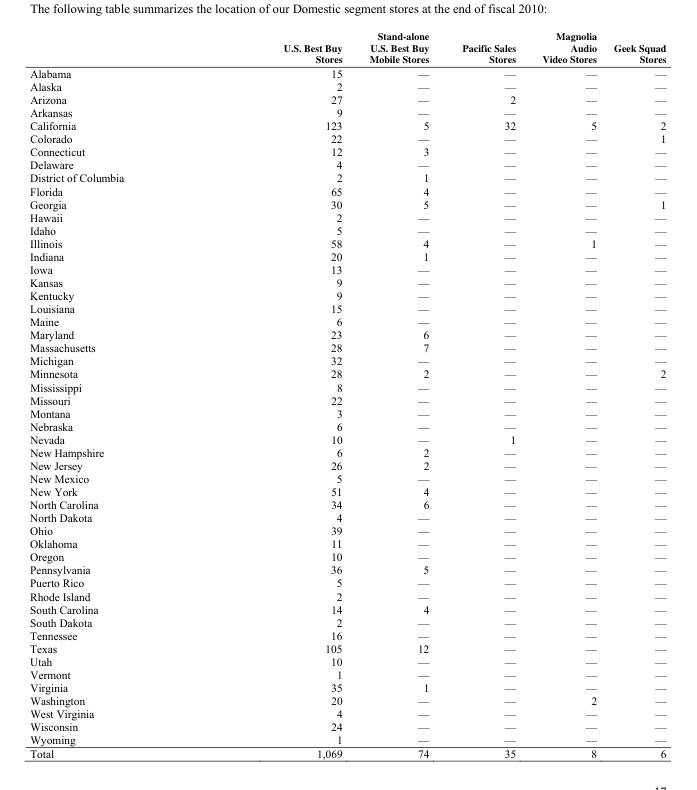table: (28, 28, 665, 759)
table column: (28, 28, 202, 759), (202, 28, 355, 759), (355, 28, 445, 759), (445, 28, 528, 759), (528, 28, 604, 759), (604, 28, 665, 759)
table column header: (28, 28, 665, 66)
table row: (28, 28, 665, 66), (28, 157, 665, 171), (28, 340, 665, 354), (28, 536, 665, 550), (28, 732, 665, 746), (28, 66, 665, 79), (28, 79, 665, 92), (28, 92, 665, 105), (28, 105, 665, 118), (28, 118, 665, 131), (28, 131, 665, 144), (28, 144, 665, 157), (28, 171, 665, 184), (28, 184, 665, 197), (28, 197, 665, 210), (28, 210, 665, 223), (28, 223, 665, 236), (28, 236, 665, 249), (28, 249, 665, 262), (28, 262, 665, 275), (28, 275, 665, 288), (28, 288, 665, 301), (28, 301, 665, 314), (28, 314, 665, 327), (28, 327, 665, 340), (28, 354, 665, 367), (28, 367, 665, 380), (28, 380, 665, 393), (28, 393, 665, 406), (28, 406, 665, 419), (28, 419, 665, 432), (28, 432, 665, 445), (28, 445, 665, 458), (28, 458, 665, 471), (28, 471, 665, 484), (28, 484, 665, 497), (28, 497, 665, 510), (28, 510, 665, 523), (28, 523, 665, 536), (28, 550, 665, 563), (28, 563, 665, 576), (28, 576, 665, 589), (28, 589, 665, 602), (28, 602, 665, 615), (28, 615, 665, 628), (28, 628, 665, 641), (28, 641, 665, 654), (28, 654, 665, 667), (28, 667, 665, 680), (28, 680, 665, 693), (28, 693, 665, 706), (28, 706, 665, 719), (28, 719, 665, 732), (28, 746, 665, 759)
